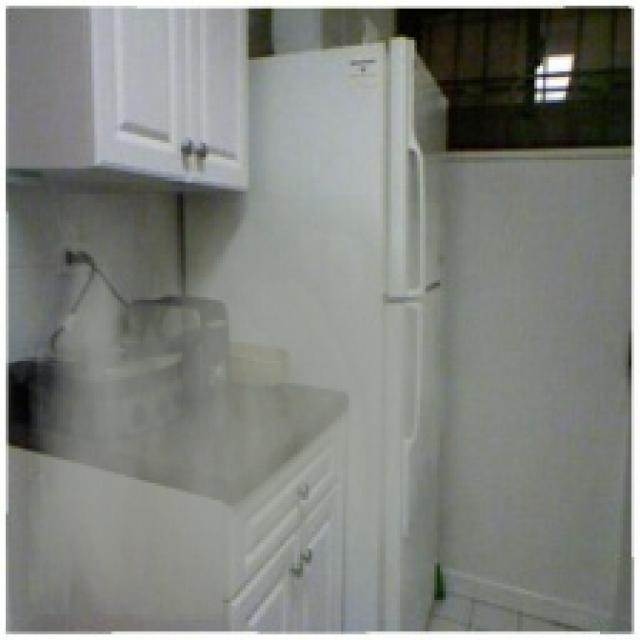Smoke: (28, 195, 446, 620)
